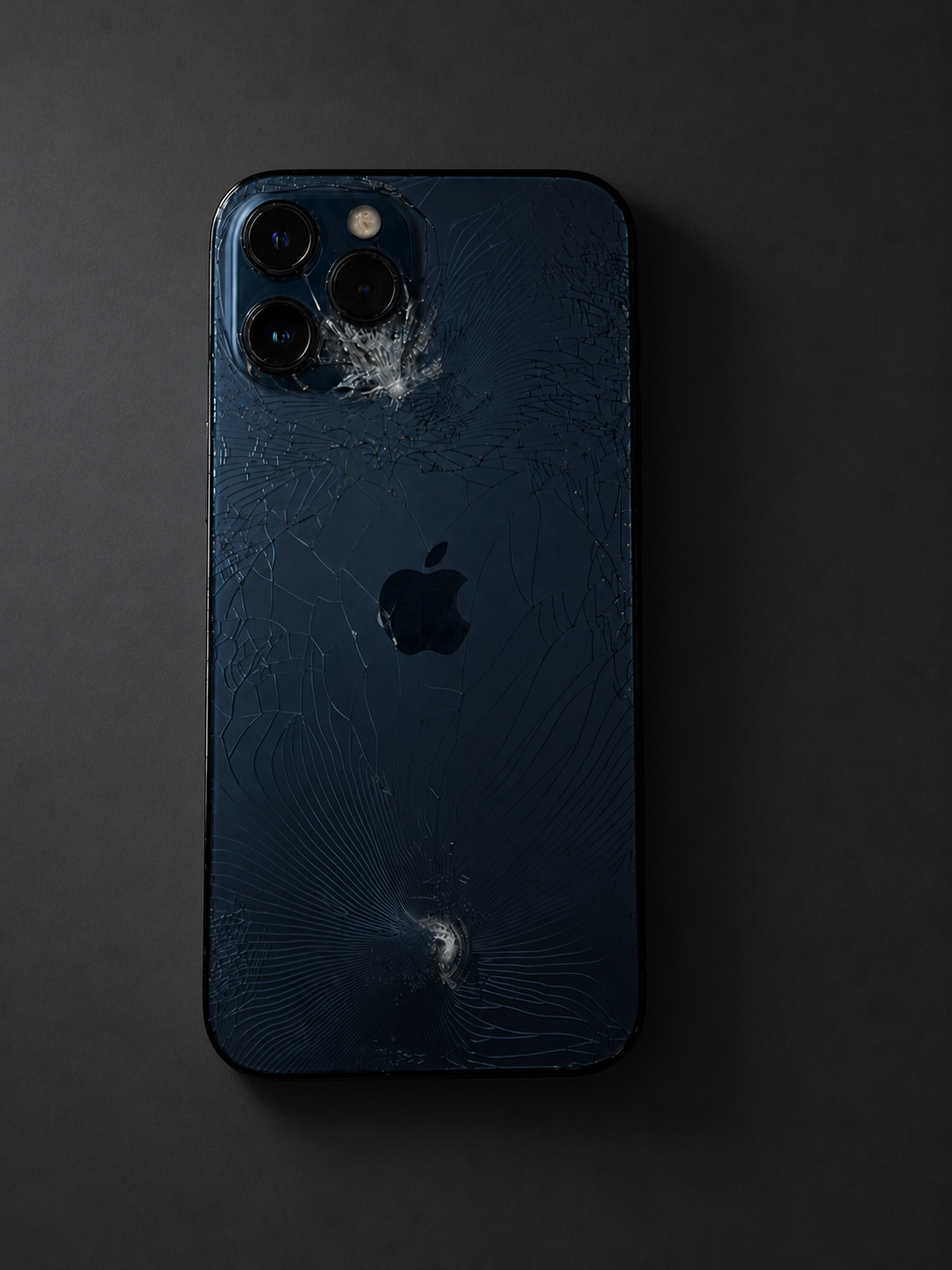iphone_12_pro_max_Crack: (167, 121, 691, 1133)
